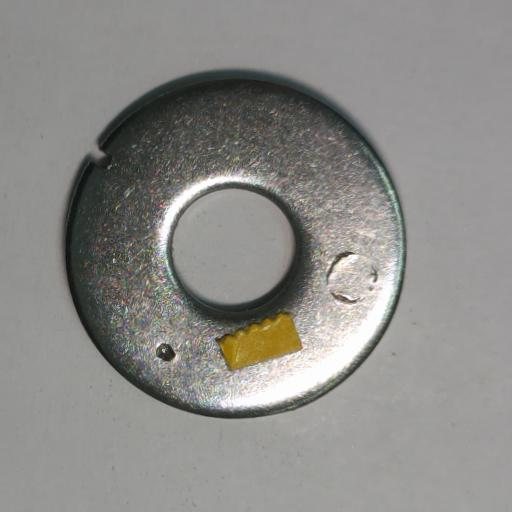burr: (87, 147, 113, 171)
